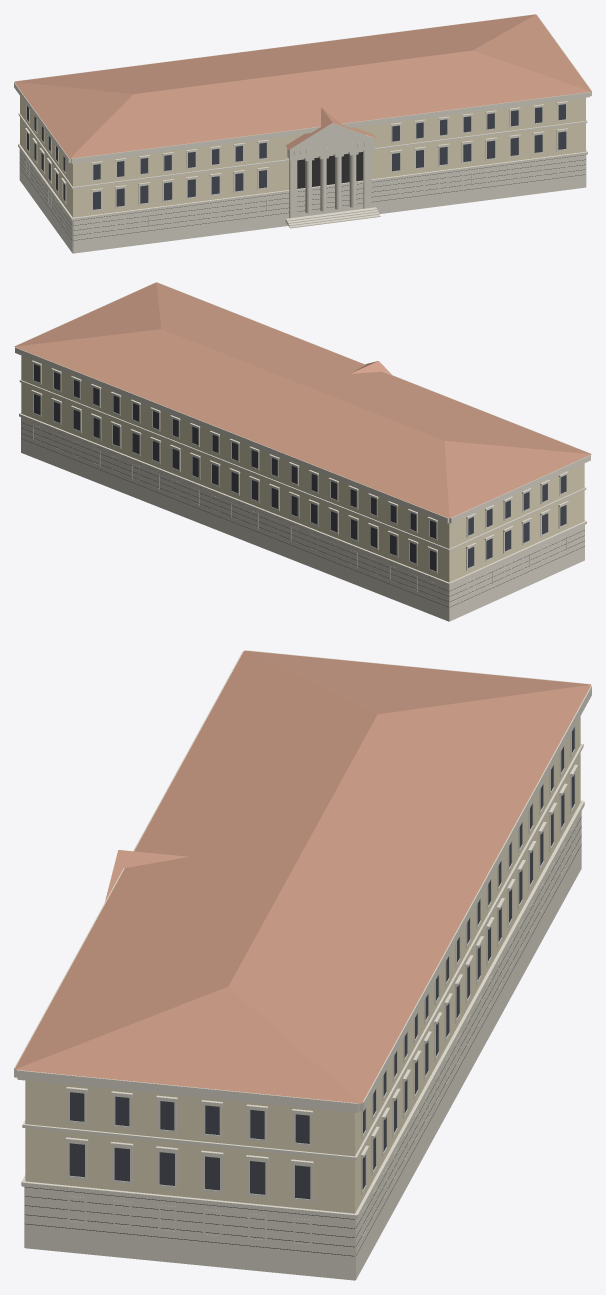
File: borsa.glb
The picture shows the model from 3 angles, top to bottom: view 1: azimuth 30°, elevation 25°; view 2: azimuth 150°, elevation 25°; view 3: azimuth 270°, elevation 25°; orthographic projection. The views are drawn at different scales.
Parts seen in each view (by area): view 1: borsa@1860-99999.roof, borsa@1860-99999.trav, borsa@1860-99999.plaster, borsa@1860-99999.glass, borsa@1860-99999.dark; view 2: borsa@1860-99999.roof, borsa@1860-99999.trav, borsa@1860-99999.plaster, borsa@1860-99999.glass, borsa@1860-99999.dark; view 3: borsa@1860-99999.roof, borsa@1860-99999.trav, borsa@1860-99999.plaster, borsa@1860-99999.glass, borsa@1860-99999.dark.
Part boxes in pixels (left/top/right/bottom): borsa@1860-99999.roof: left=14, top=14, right=591, bottom=158; borsa@1860-99999.trav: left=14, top=14, right=591, bottom=253; borsa@1860-99999.plaster: left=20, top=96, right=585, bottom=217; borsa@1860-99999.glass: left=27, top=104, right=566, bottom=209; borsa@1860-99999.dark: left=20, top=152, right=585, bottom=240; borsa@1860-99999.roof: left=14, top=282, right=591, bottom=518; borsa@1860-99999.trav: left=15, top=282, right=590, bottom=621; borsa@1860-99999.plaster: left=21, top=355, right=584, bottom=582; borsa@1860-99999.glass: left=34, top=364, right=566, bottom=571; borsa@1860-99999.dark: left=21, top=422, right=584, bottom=607; borsa@1860-99999.roof: left=14, top=650, right=591, bottom=1103; borsa@1860-99999.trav: left=14, top=650, right=591, bottom=1280; borsa@1860-99999.plaster: left=25, top=716, right=580, bottom=1213; borsa@1860-99999.glass: left=69, top=727, right=574, bottom=1199; borsa@1860-99999.dark: left=25, top=817, right=581, bottom=1256.
Bounding box in the file's own units: 95.06 × 20.3 × 51.21.
